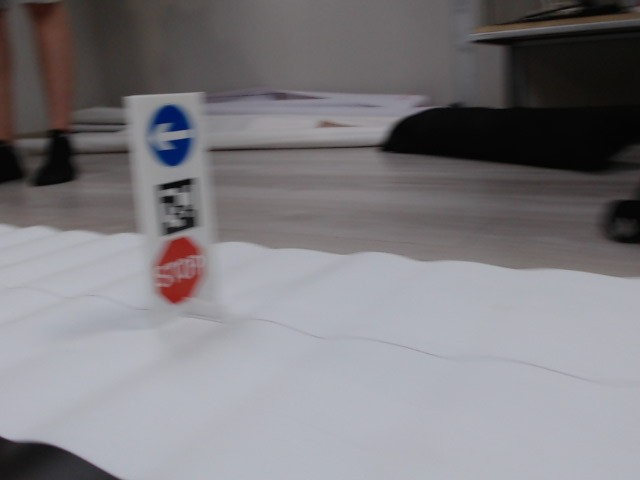Stop: (157, 238, 202, 302)
